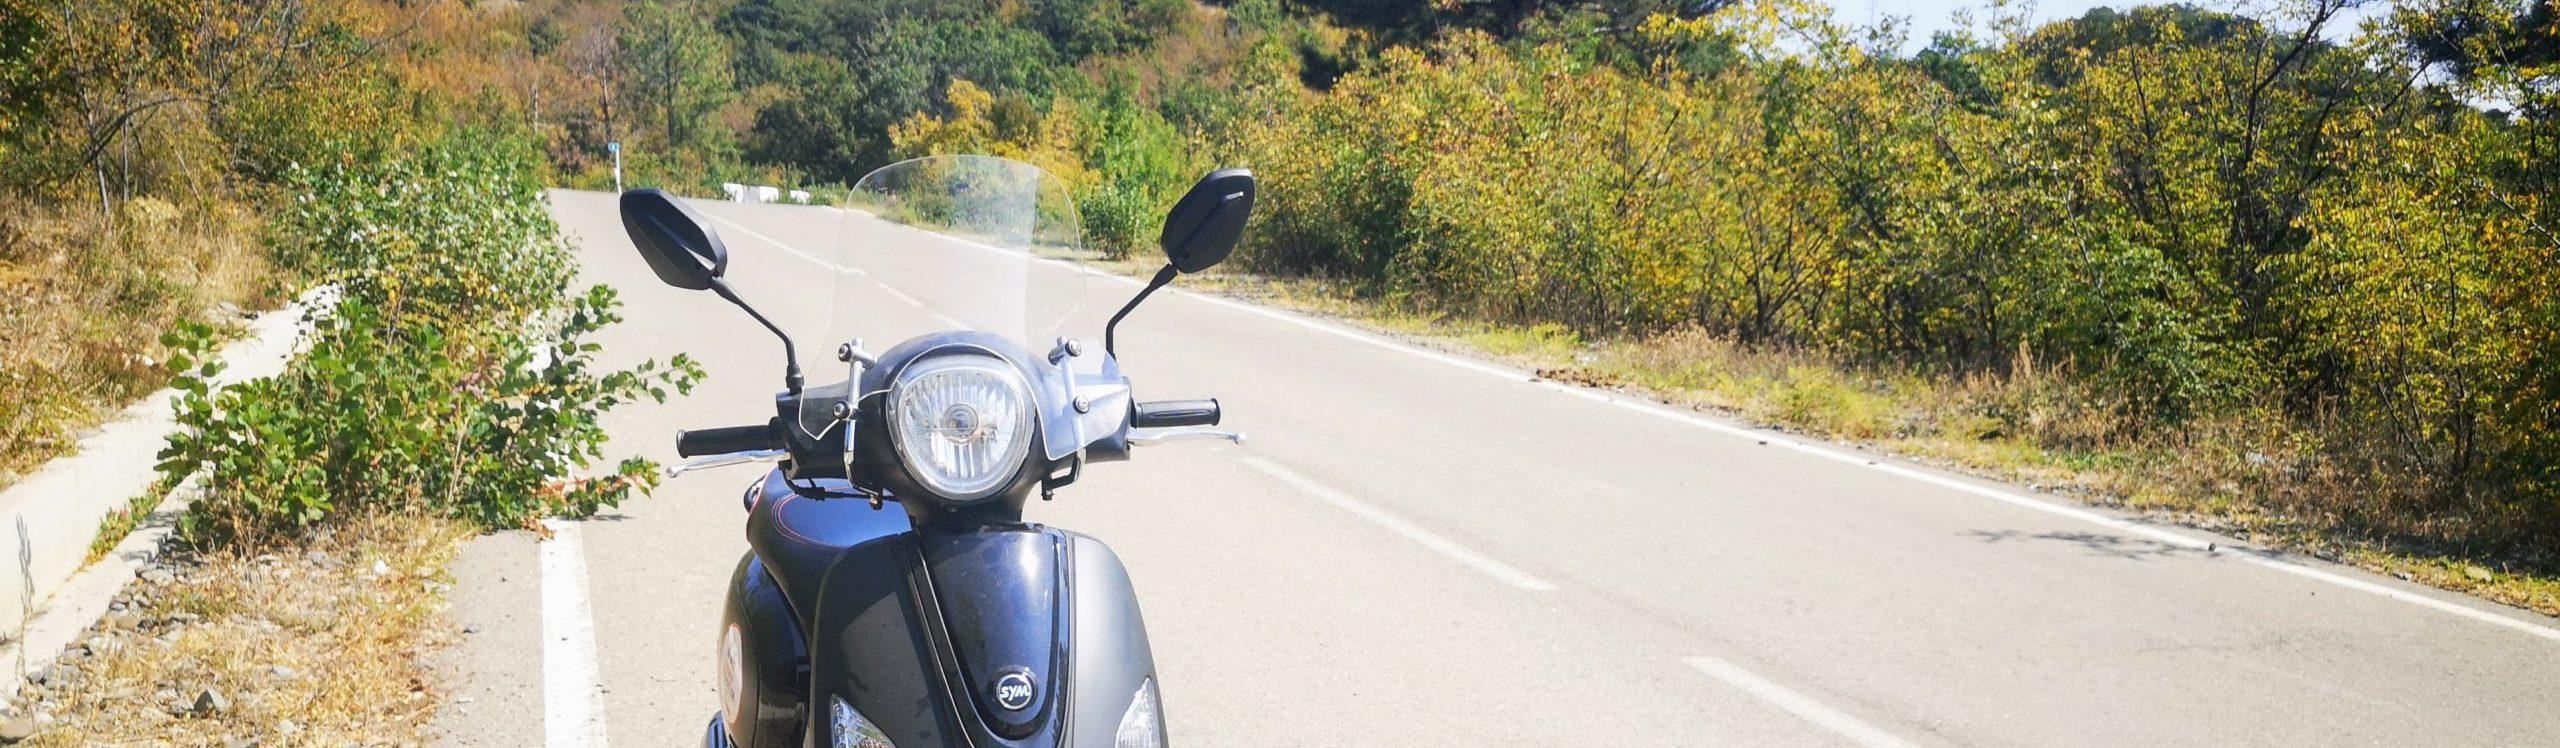motorbike: (612, 167, 1252, 748)
